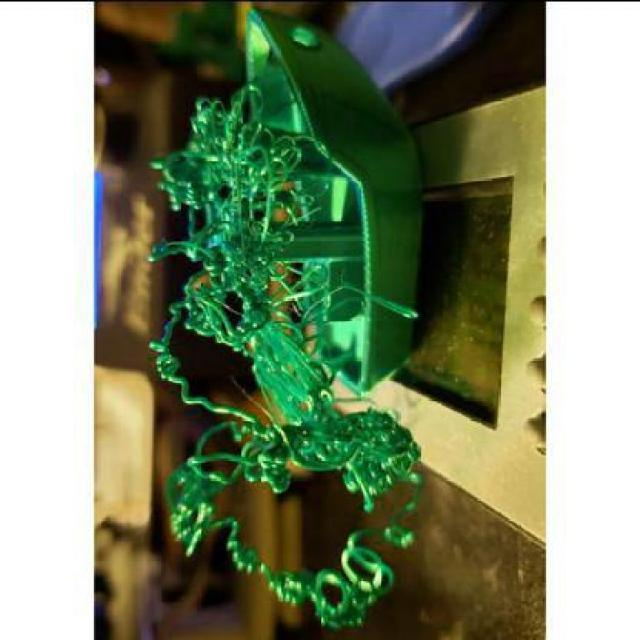spaghetti: (143, 82, 422, 628)
